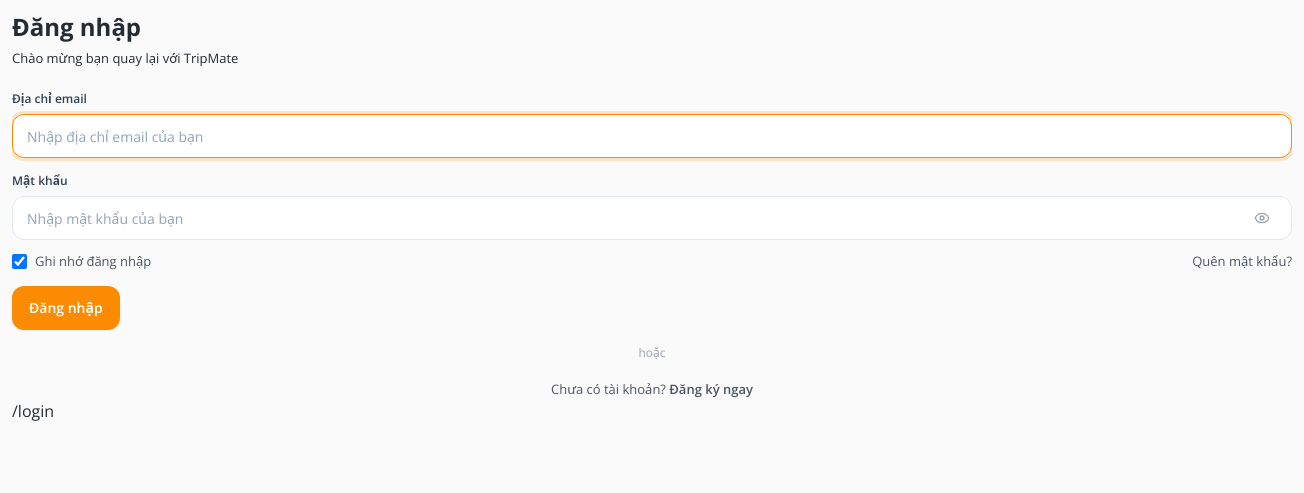
Test: Màn Đăng nhập › INVALID_CREDENTIALS → hiện lỗi trong form
The image size is (1304, 493).
Type "a@gmail.com" into the field labelled "Địa chỉ email".
click(652, 136); type("a@gmail.com")  # box [12,114,1292,158]
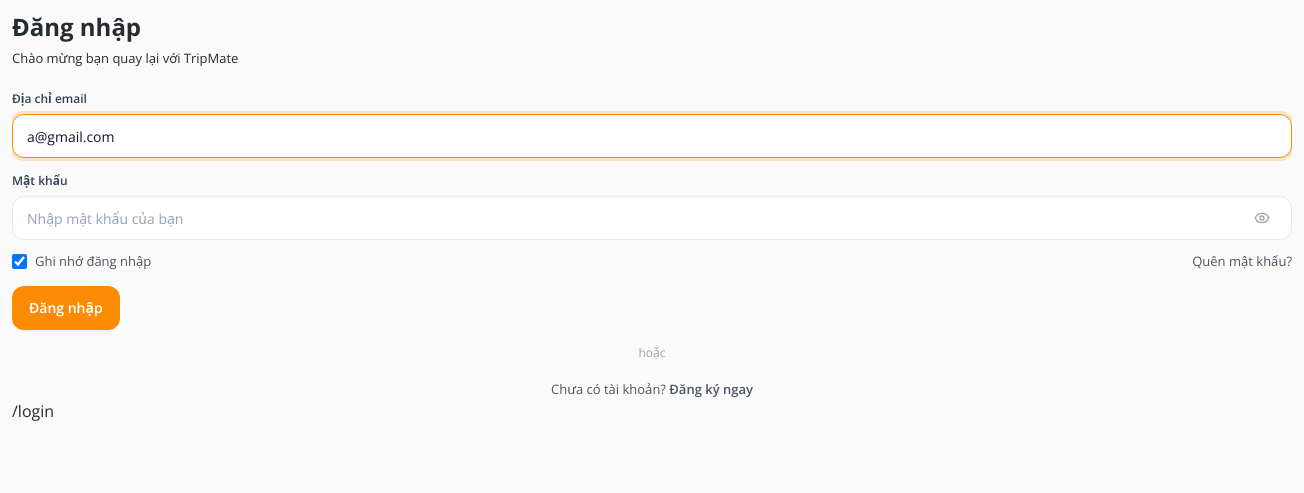
Type "SaiMatKhau1" into the password field labelled "Mật khẩu".
click(652, 218); type("SaiMatKhau1")  # box [12,196,1292,240]
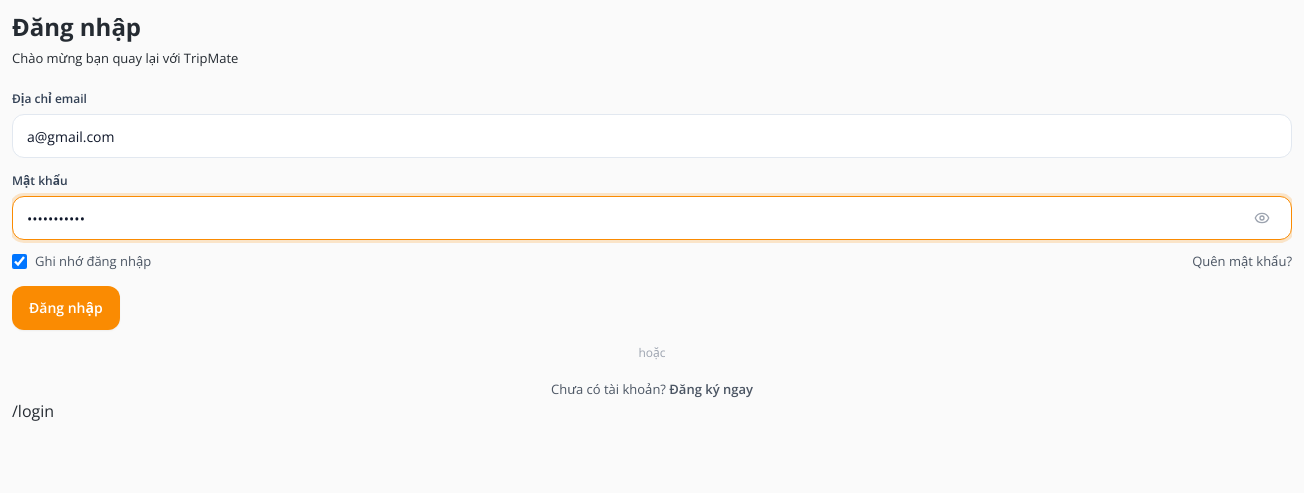
Click the button "Đăng nhập".
click(66, 308)  # box [12,286,120,330]
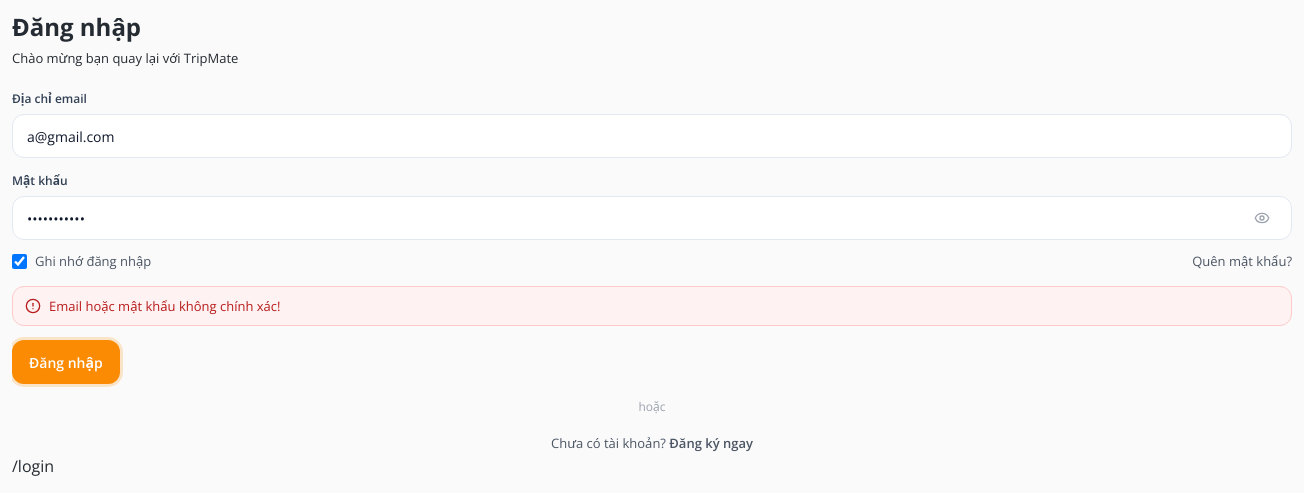
Now the message reads "Email hoặc mật khẩu không chính xác!", box [49,297,280,315]
